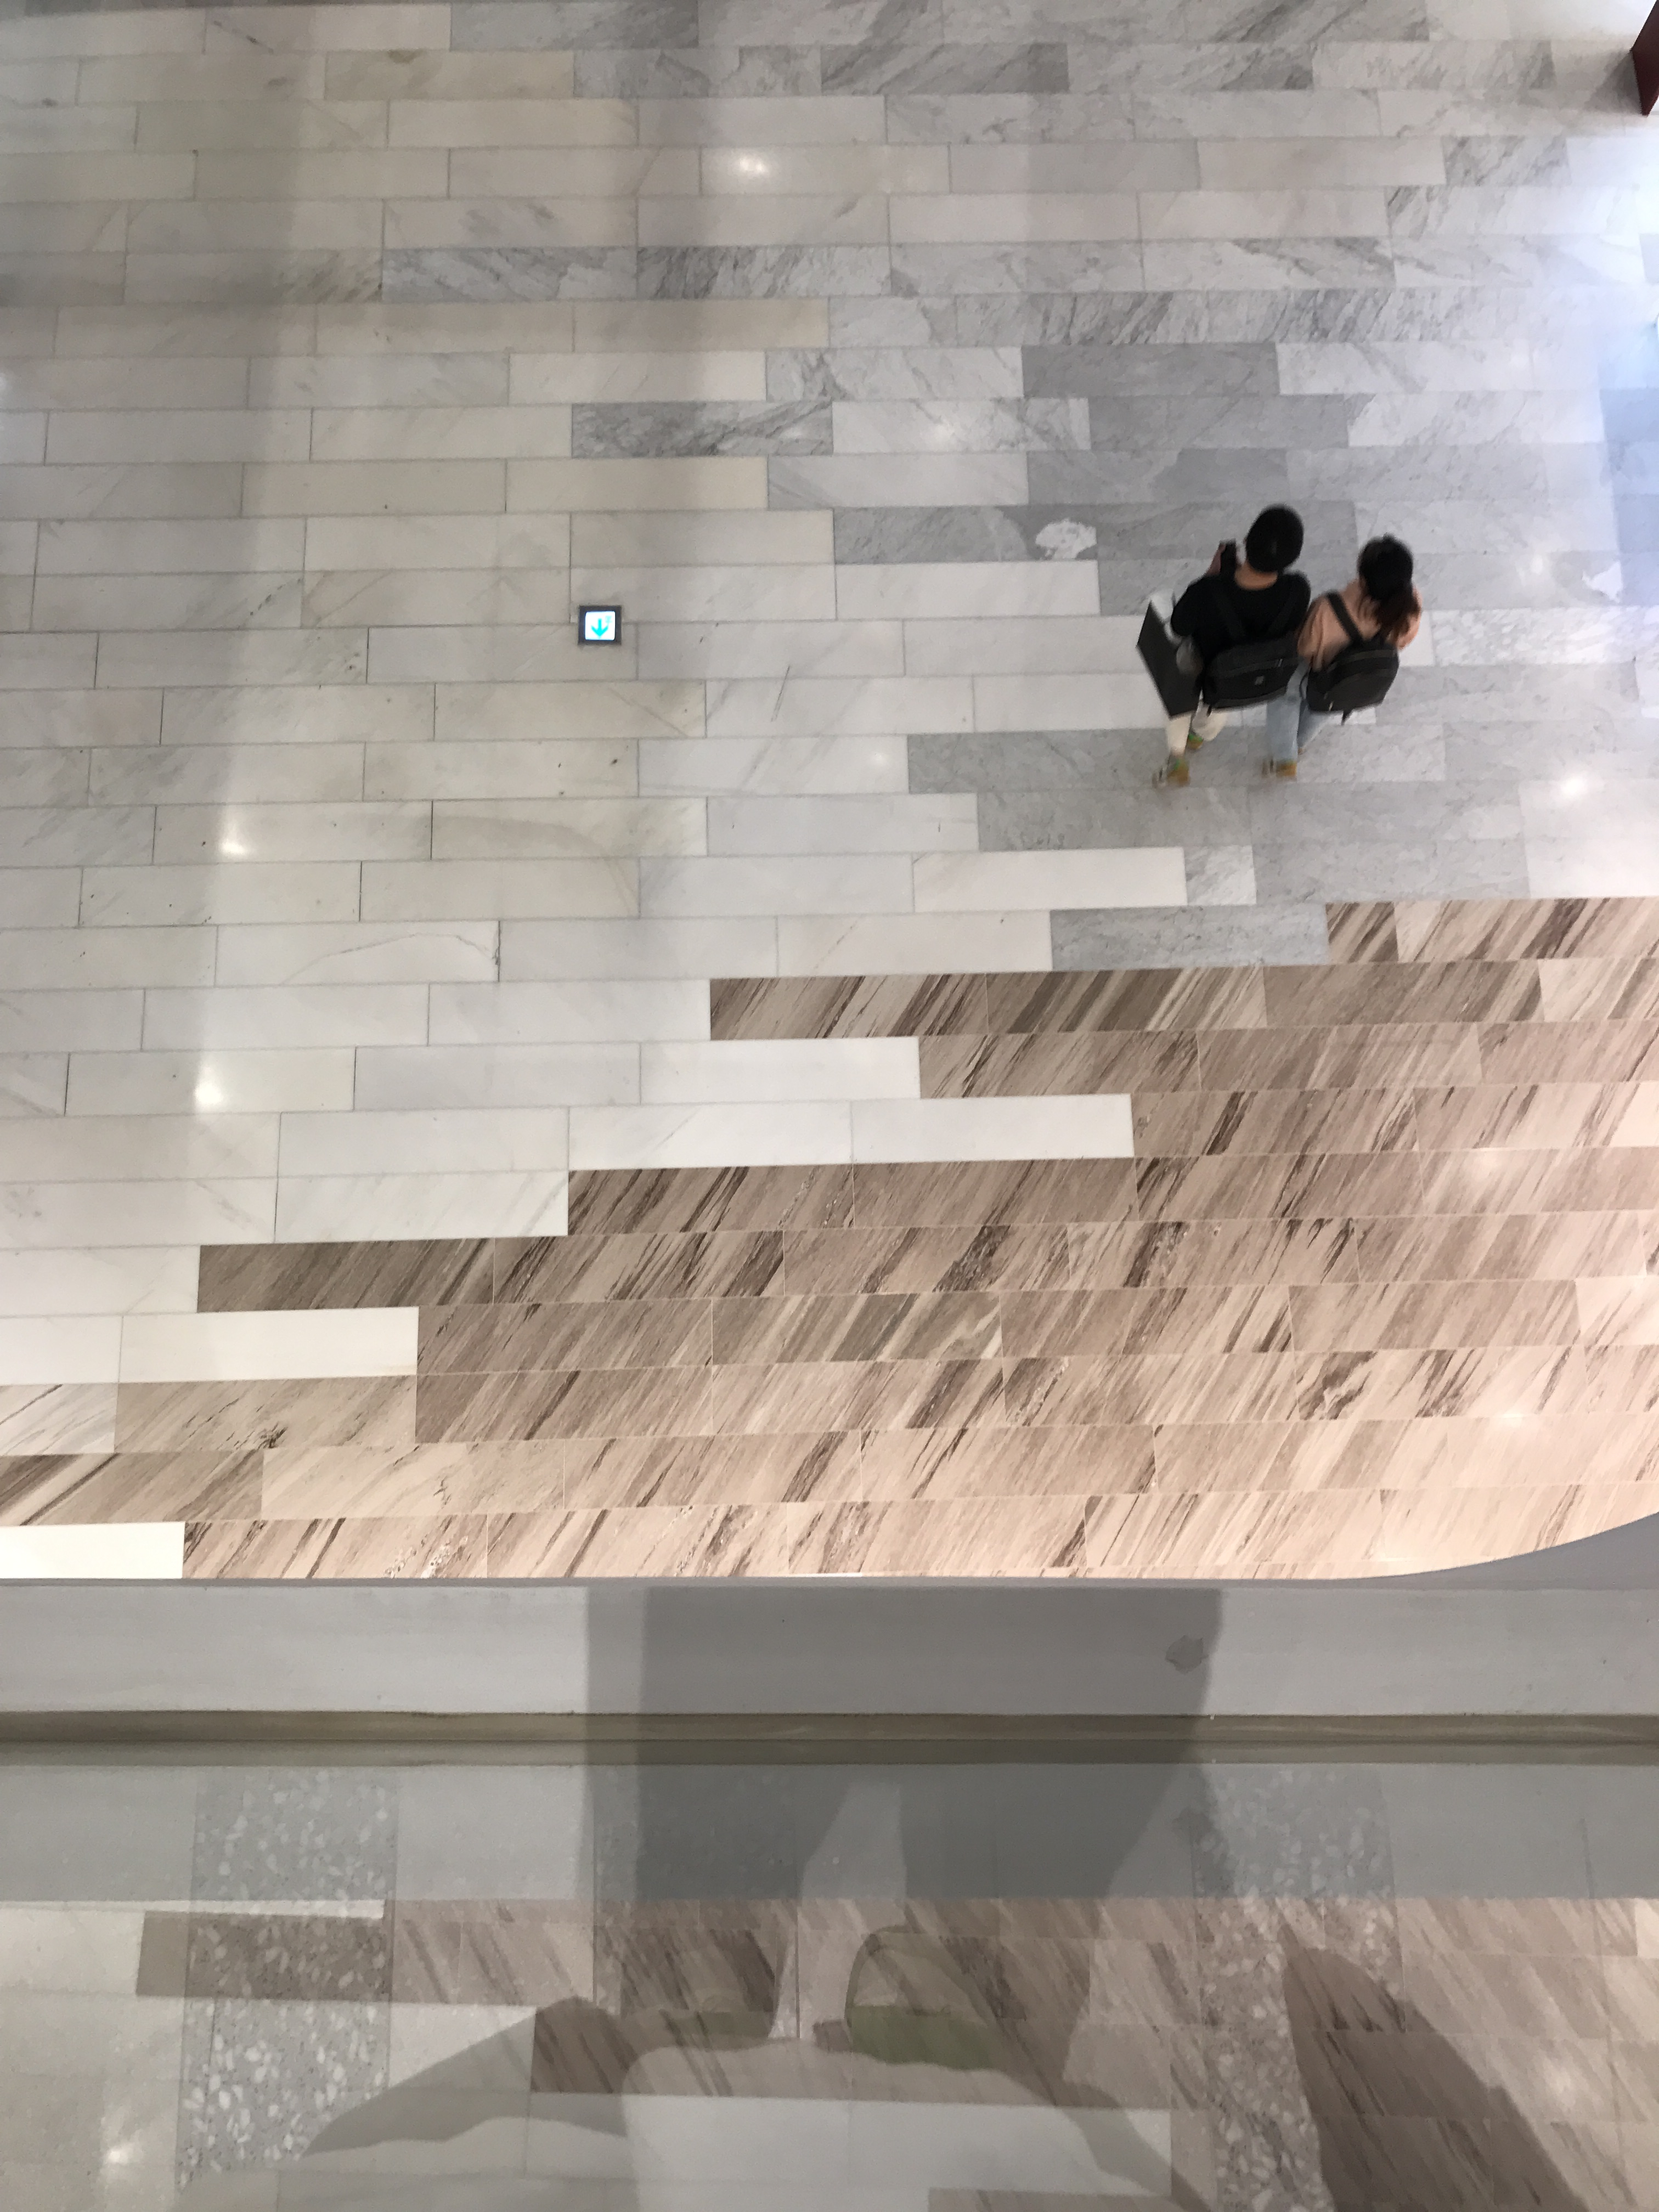person: (1136, 503, 1311, 795), (1264, 538, 1422, 781)
